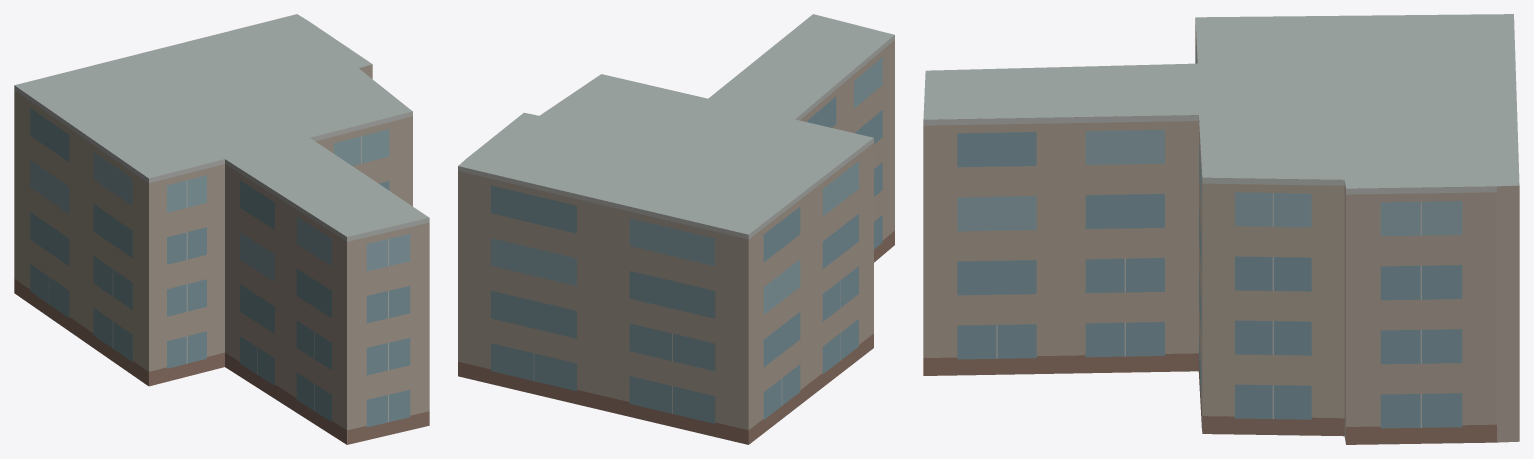
File: survey-upis-32823559.glb
3 views of the same model, side by side, from view 1: azimuth 30°, elevation 25°; view 2: azimuth 150°, elevation 25°; view 3: azimuth 270°, elevation 25° (orthographic). The views are drawn at different scales.
Visible parts, largest first — view 1: survey-upis-32823559.tmp; view 2: survey-upis-32823559.tmp; view 3: survey-upis-32823559.tmp.
Part boxes in pixels (x1,y1,x2,y2): survey-upis-32823559.tmp: [14, 14, 429, 444]; survey-upis-32823559.tmp: [458, 14, 894, 444]; survey-upis-32823559.tmp: [923, 14, 1519, 444].
Bounding box in the file's own units: 15.36 × 10.5 × 22.15.
